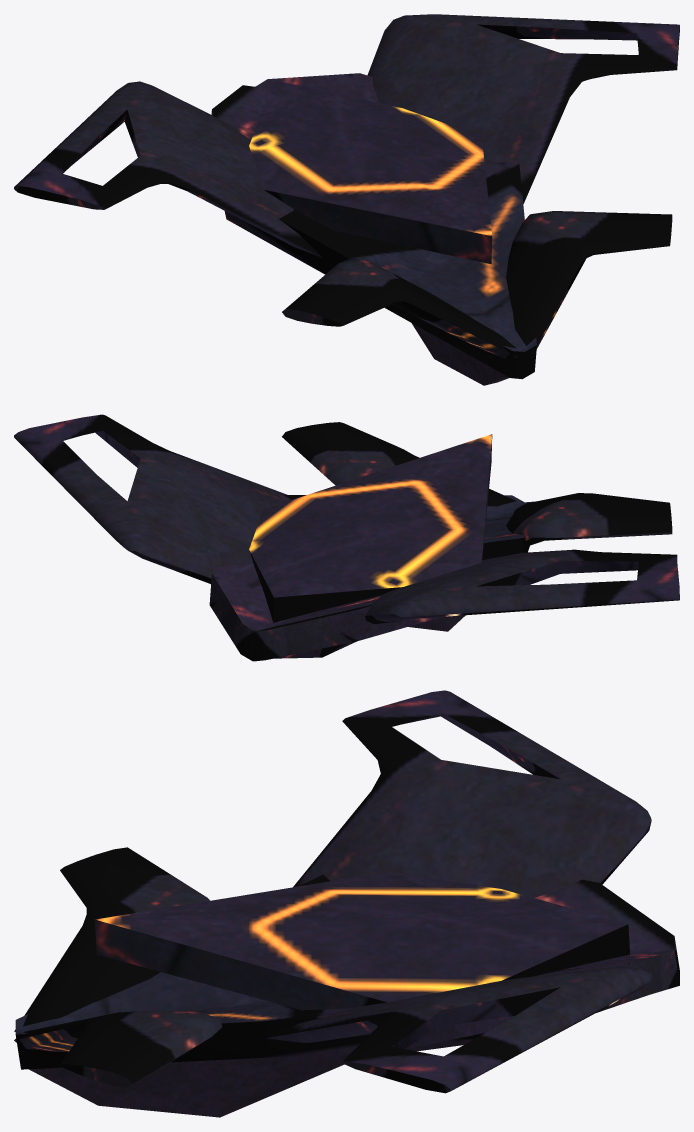
Rendered from ship16b.fbx.
3 views of the same model, one above another, from view 1: azimuth 30°, elevation 25°; view 2: azimuth 150°, elevation 25°; view 3: azimuth 270°, elevation 25° (orthographic). The views are drawn at different scales.
Parts seen in each view (by area): view 1: PipelineFBX; view 2: PipelineFBX; view 3: PipelineFBX.
Part boxes in pixels (x1,y1,x2,y2): PipelineFBX: [14, 14, 679, 385]; PipelineFBX: [14, 414, 679, 661]; PipelineFBX: [14, 690, 679, 1117].
Size of the model in its own units: 169 by 45.55 by 119.
1 material, 1 textured.
